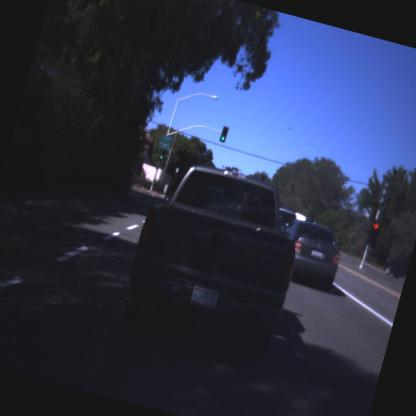trafficlight: (363, 215, 383, 249), (152, 142, 170, 169), (214, 124, 231, 145)
